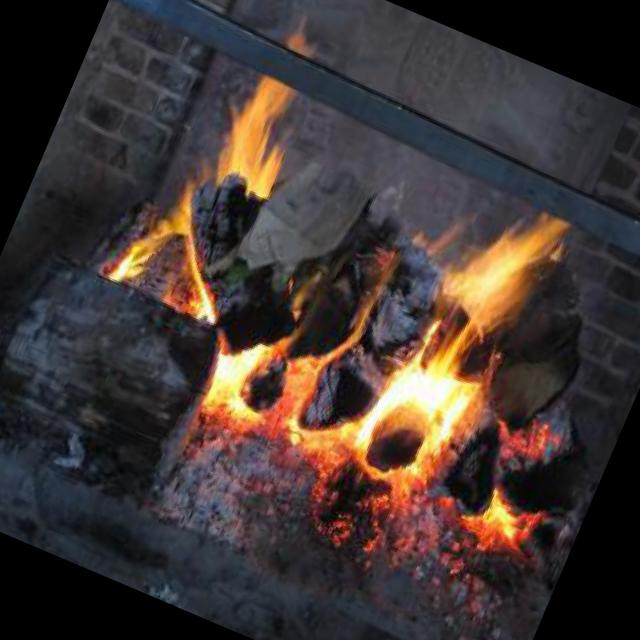fire: (36, 0, 640, 636)
